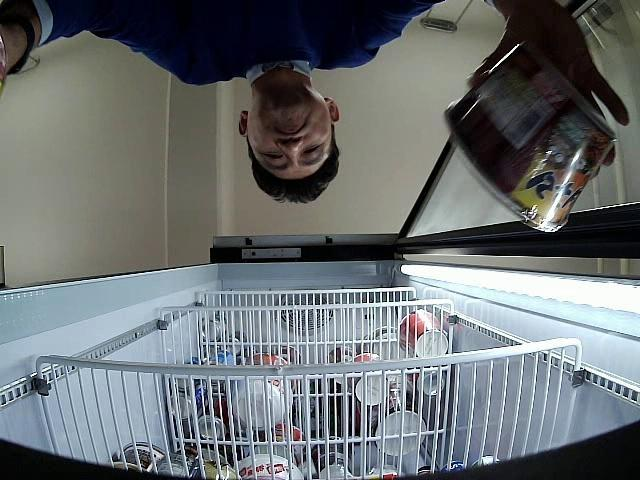05_nuguri_L: (445, 40, 617, 233)
